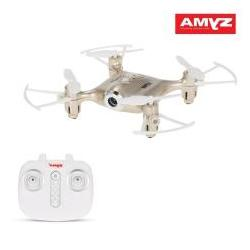drone: (22, 43, 239, 140)
